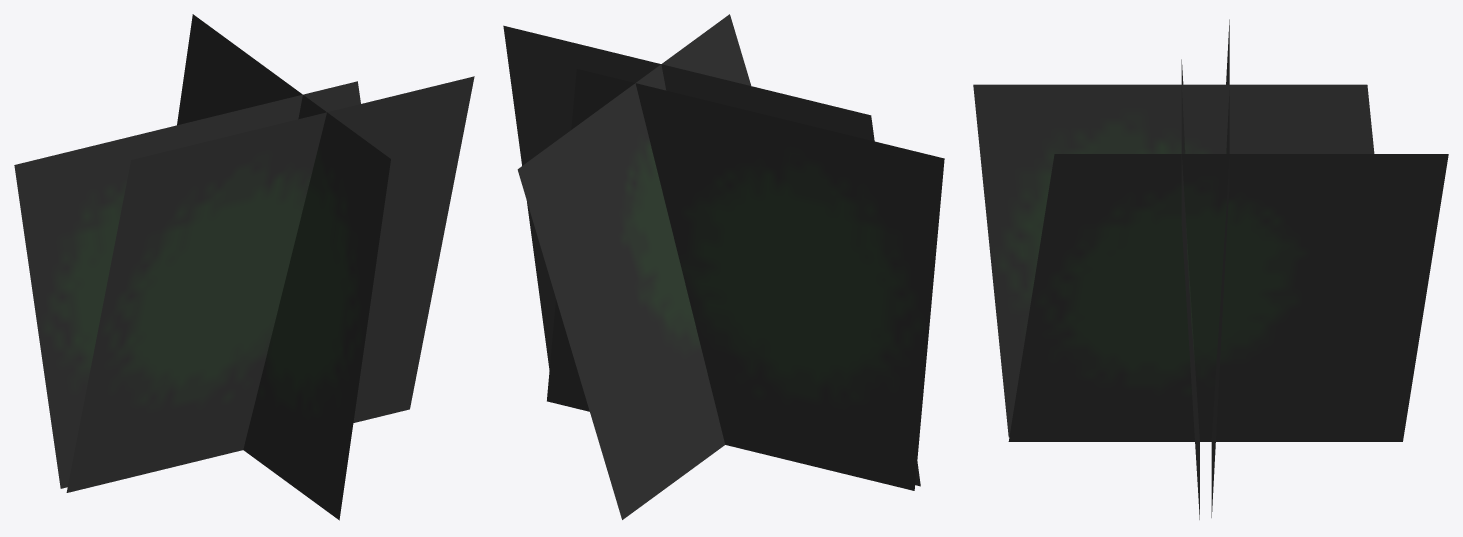
Rendered from GrassBranches1.fbx.
3 views of the same model, side by side, from view 1: azimuth 30°, elevation 25°; view 2: azimuth 150°, elevation 25°; view 3: azimuth 270°, elevation 25° (orthographic). The views are drawn at different scales.
Parts seen in each view (by area): view 1: GrassBranches1; view 2: GrassBranches1; view 3: GrassBranches1.
Boxes of the visible parts, <box> form: GrassBranches1: <box>14,14,474,520</box>; GrassBranches1: <box>503,14,944,519</box>; GrassBranches1: <box>973,19,1448,519</box>.
Size of the model in its own units: 0.4326 by 0.411 by 0.3093.
